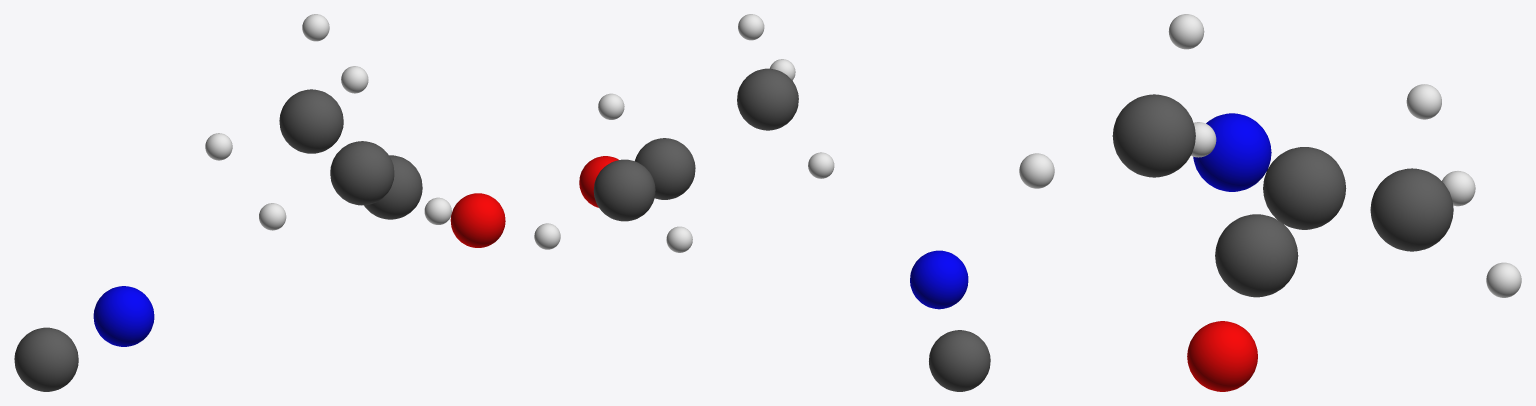
The model's file is AdN_Acetone.fbx.
3 views of the same model, side by side, from view 1: azimuth 30°, elevation 25°; view 2: azimuth 150°, elevation 25°; view 3: azimuth 270°, elevation 25° (orthographic). The views are drawn at different scales.
Parts seen in each view (by area): view 1: C06, C02, C11, N12, O10, C01, H05, H04, H07, H08, H09; view 2: C06, C02, C11, N12, C01, O10, H08, H04, H05, H03, H07; view 3: C06, C01, C02, C11, N12, O10, H03, H09, H07, H05, H04, H08.
Boxes of the visible parts, <box> form: C06: <box>330,141,394,205</box>; C02: <box>279,89,343,153</box>; C11: <box>14,327,78,391</box>; N12: <box>93,286,154,346</box>; O10: <box>450,193,505,247</box>; C01: <box>364,155,422,219</box>; H05: <box>302,14,329,41</box>; H04: <box>205,133,232,160</box>; H07: <box>341,66,368,93</box>; H08: <box>259,203,286,230</box>; H09: <box>424,197,451,224</box>; C06: <box>737,68,798,130</box>; C02: <box>593,159,655,221</box>; C11: <box>929,330,990,391</box>; N12: <box>910,250,968,309</box>; C01: <box>635,138,695,199</box>; O10: <box>579,156,618,207</box>; H08: <box>808,152,834,178</box>; H04: <box>666,226,692,252</box>; H05: <box>598,93,624,119</box>; H03: <box>534,223,560,249</box>; H07: <box>738,14,764,40</box>; C06: <box>1112,94,1195,177</box>; C01: <box>1215,214,1298,297</box>; C02: <box>1370,168,1453,251</box>; C11: <box>1263,147,1346,229</box>; N12: <box>1193,113,1271,191</box>; O10: <box>1187,321,1257,391</box>; H03: <box>1486,262,1521,297</box>; H09: <box>1019,153,1054,188</box>; H07: <box>1168,14,1204,49</box>; H05: <box>1406,84,1441,119</box>; H04: <box>1442,171,1475,206</box>; H08: <box>1191,122,1216,157</box>.
Size of the model in its own units: 607 by 374 by 453.
